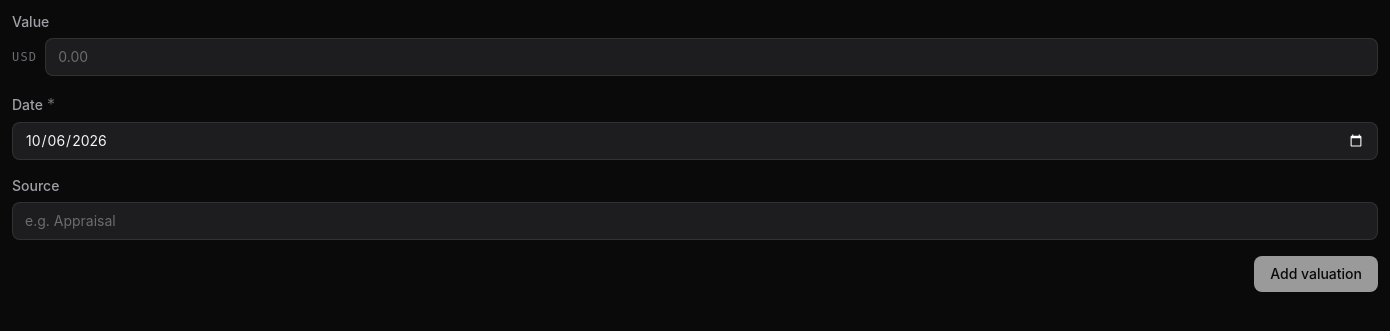
Test: ValuationForm › rejects an invalid amount instead of submitting
Type "not-a-number" into the field labelled "Value" at coordinates (712, 57), box [45,38,1378,76]
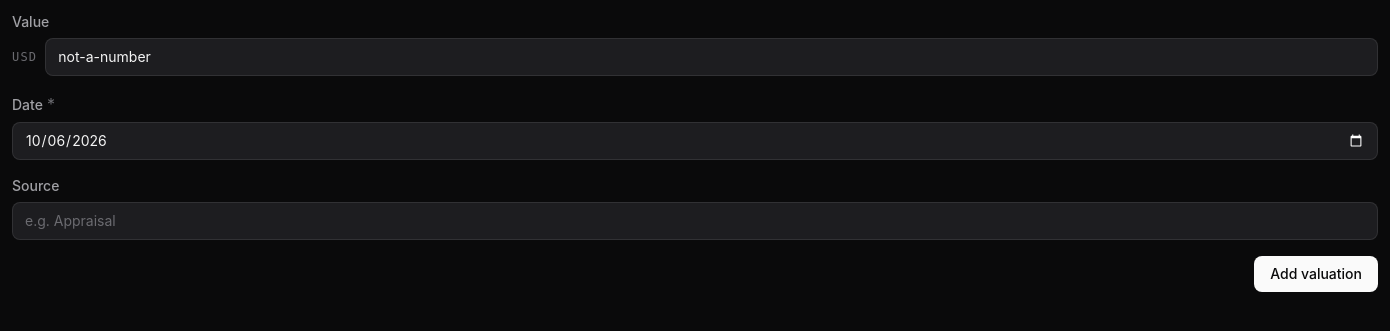
Click the button "Add valuation" at coordinates (1316, 274), box [1254,256,1378,292]
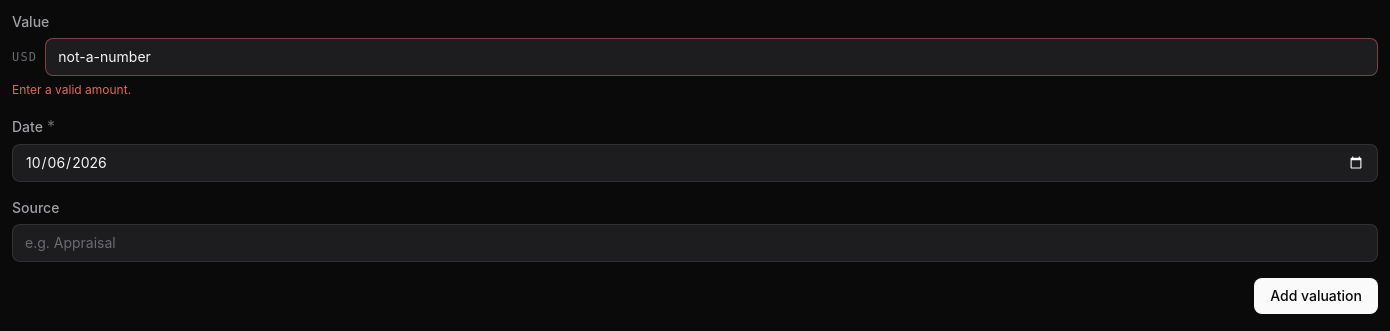
Expected: the text "Enter a valid amount." is shown, [12,82,131,97]
